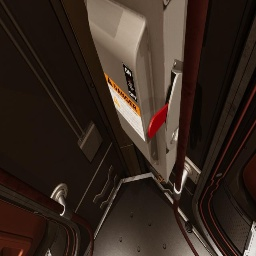SafetySwitchPanel ,: (84, 0, 188, 184)
